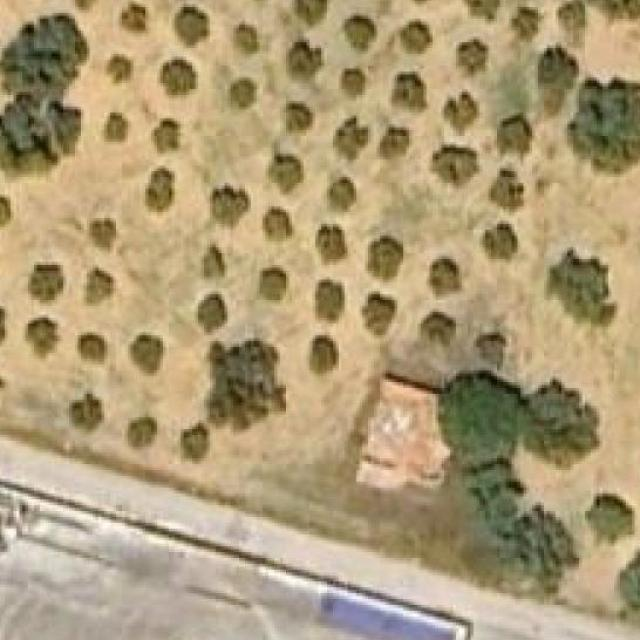Tree: (195, 335, 286, 427), (435, 376, 514, 464), (567, 77, 640, 171), (506, 503, 580, 594), (0, 19, 79, 98), (520, 385, 594, 464), (462, 452, 524, 537), (550, 251, 618, 327), (1, 107, 69, 171), (529, 46, 573, 110), (588, 493, 636, 544), (429, 144, 474, 189), (333, 116, 371, 169), (210, 186, 251, 228), (427, 256, 468, 298), (442, 91, 480, 136), (26, 318, 61, 364), (559, 0, 594, 45), (489, 168, 524, 212), (368, 236, 403, 280), (128, 332, 163, 376), (620, 550, 640, 626), (284, 39, 318, 83), (269, 151, 307, 190), (497, 112, 532, 154), (93, 54, 137, 87), (312, 279, 344, 323), (69, 392, 104, 432), (389, 72, 424, 112), (316, 224, 350, 265), (175, 7, 208, 48), (145, 168, 175, 212), (306, 336, 339, 376), (160, 60, 196, 95), (485, 222, 518, 260), (28, 265, 63, 300), (358, 298, 392, 333), (198, 292, 225, 333), (237, 25, 275, 54), (374, 124, 407, 157), (151, 118, 181, 154), (262, 206, 292, 242), (421, 312, 454, 344), (468, 330, 500, 362), (459, 38, 489, 72), (284, 104, 318, 134), (327, 177, 356, 212), (86, 268, 114, 304), (512, 7, 542, 40), (342, 15, 372, 48), (75, 333, 108, 362), (128, 417, 157, 450), (175, 426, 204, 458), (260, 267, 287, 300), (292, 0, 327, 25), (105, 112, 132, 142), (401, 22, 428, 52), (202, 245, 225, 280), (228, 81, 255, 108), (338, 72, 366, 98), (90, 222, 117, 248), (466, 0, 500, 19), (122, 4, 145, 32), (0, 300, 7, 353), (0, 195, 11, 228), (0, 361, 5, 406)
